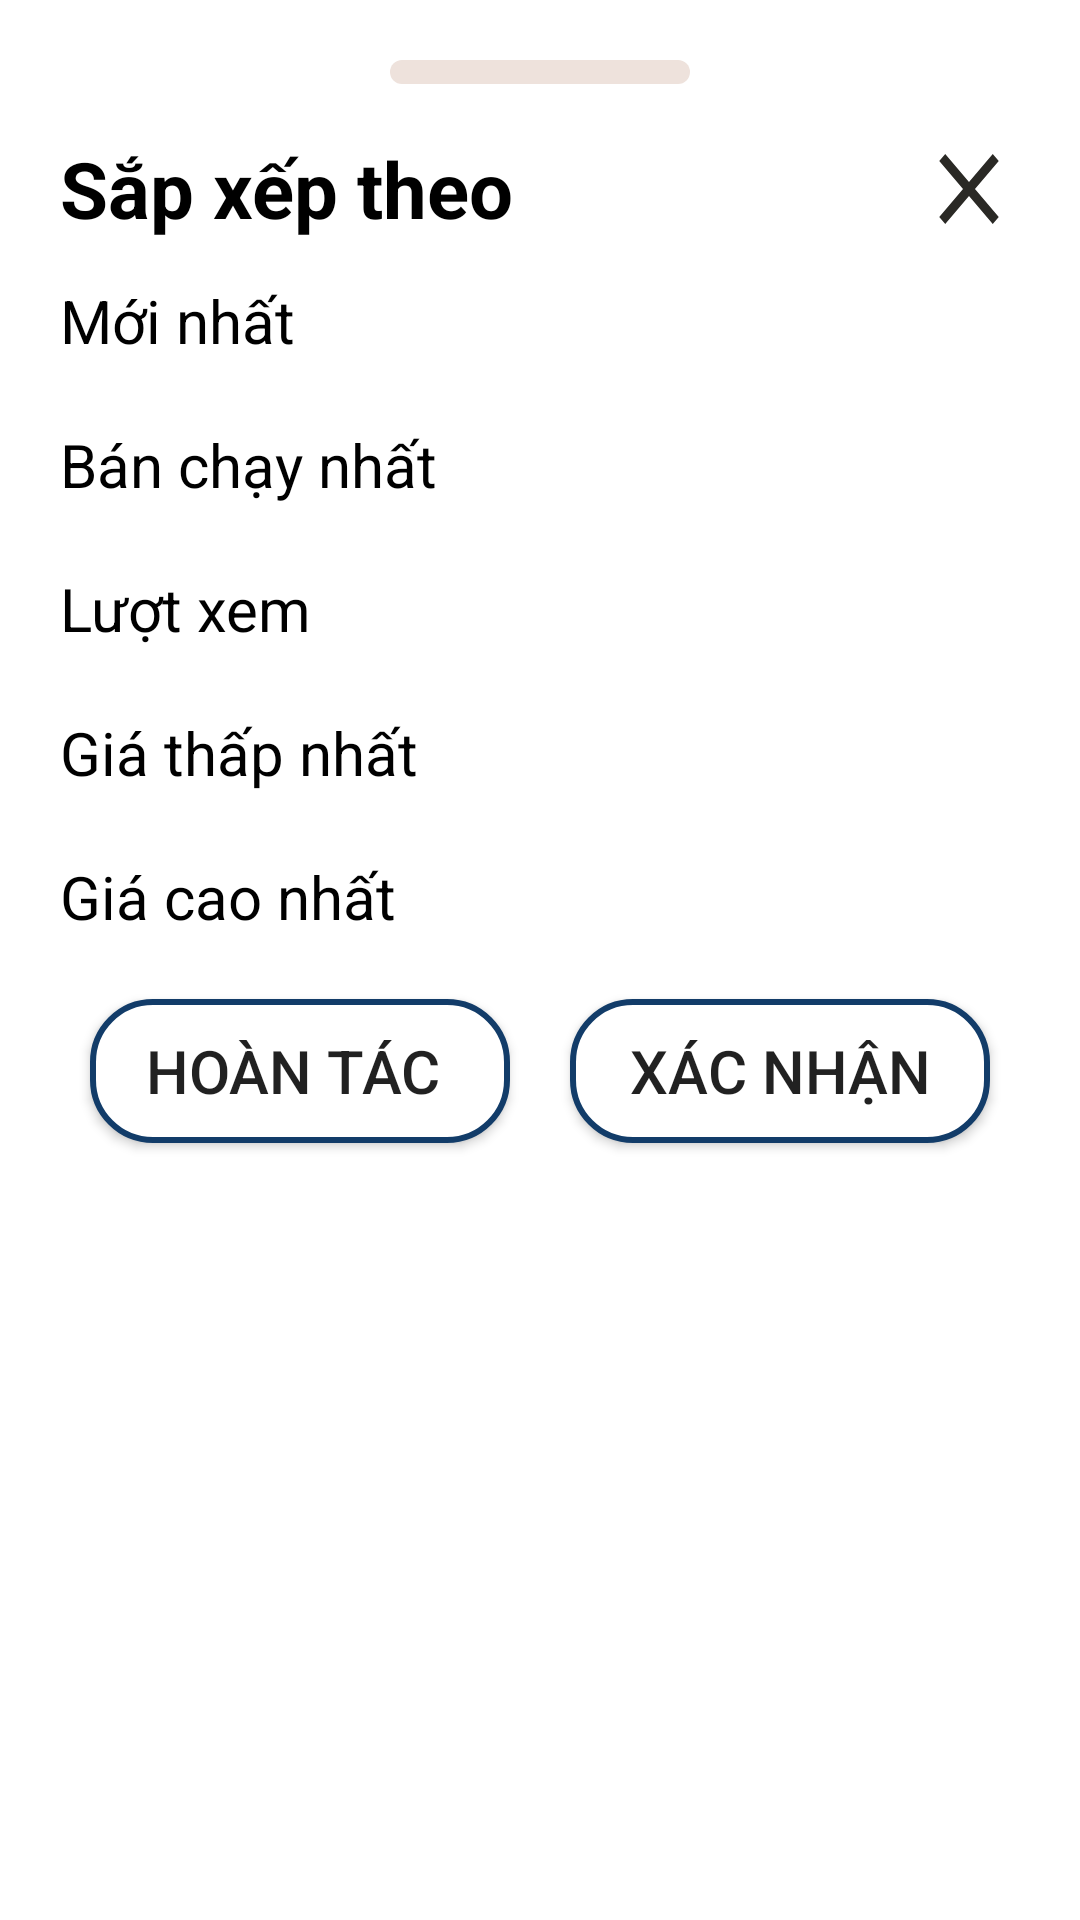

Where to tap for icons on this 1080px×1920px app screen, as [x,y]:
close: [969,189]
